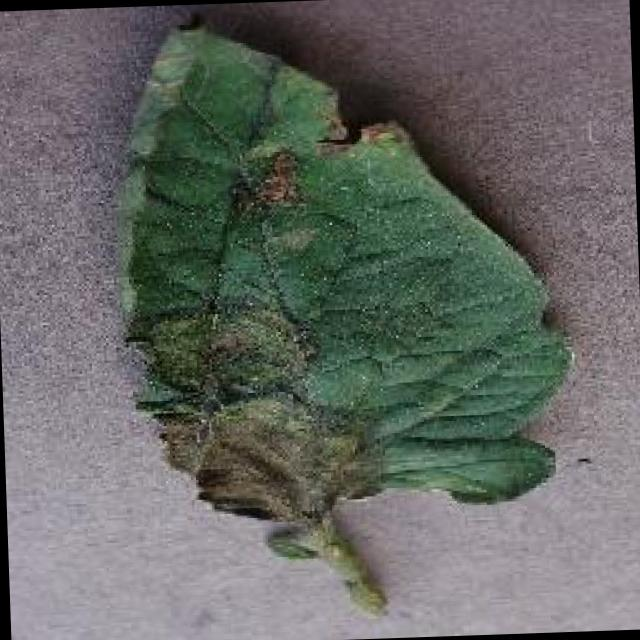Tomato_Late_Blight: (126, 282, 376, 548), (208, 100, 411, 222)
